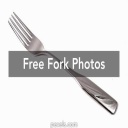fork: (5, 11, 121, 117)
